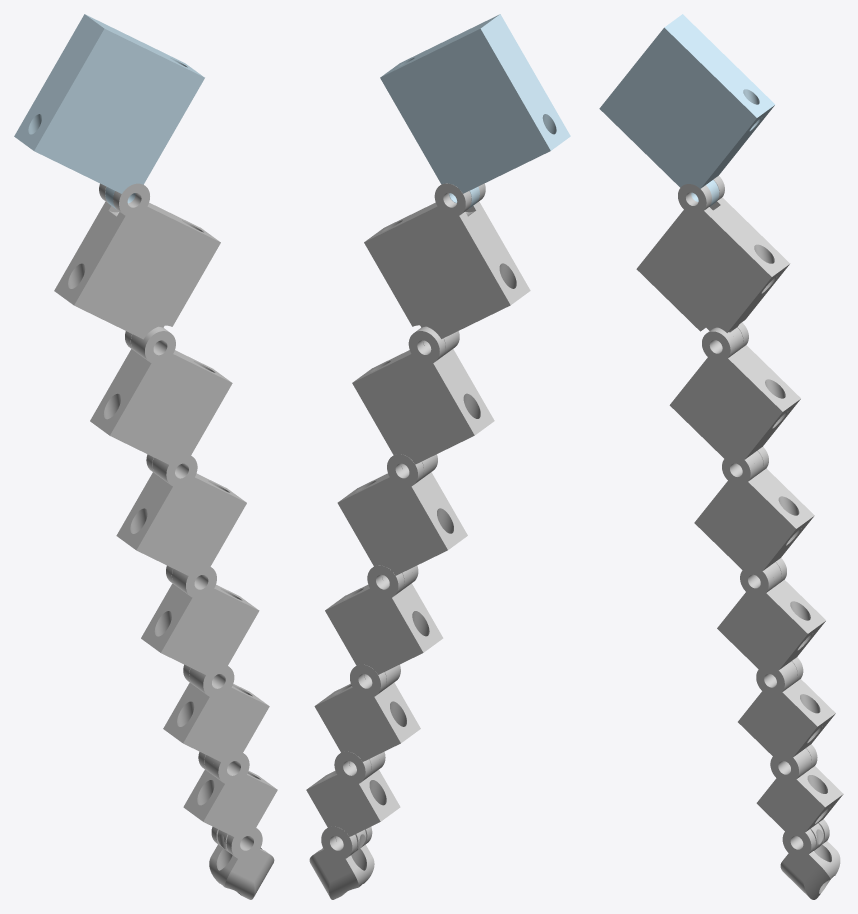
Rendered from Prototype 1 GLB.glb.
3 renders of one model, left to right at view 1: azimuth 30°, elevation 25°; view 2: azimuth 150°, elevation 25°; view 3: azimuth 330°, elevation 25°, orthographic. The views are drawn at different scales.
Parts seen in each view (by area): view 1: Part 1 (×7), Part 2; view 2: Part 1 (×7), Part 2; view 3: Part 1 (×7), Part 2.
Part boxes in pixels (<box>): Part 1 (×7): <box>14,14,277,899</box>; Part 2: <box>54,183,220,356</box>; Part 1 (×7): <box>306,14,570,899</box>; Part 2: <box>364,183,530,356</box>; Part 1 (×7): <box>599,14,843,899</box>; Part 2: <box>636,175,789,353</box>.
Size of the model in its own units: 0.0706 by 0.2528 by 0.0103.
